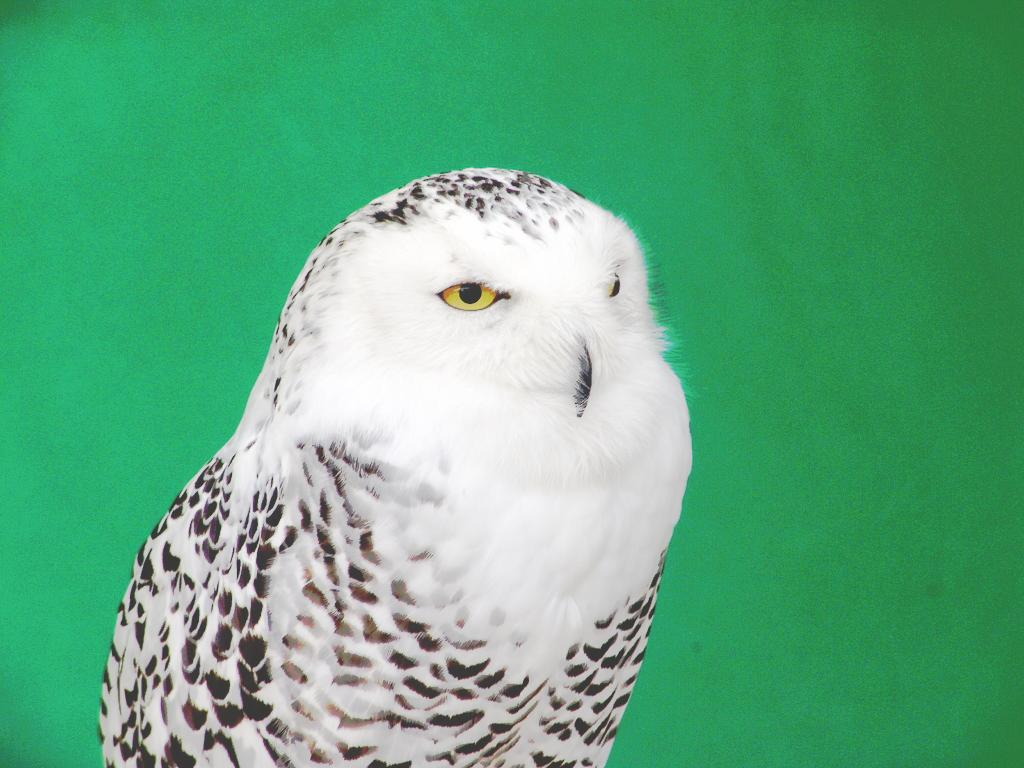Owl: (64, 170, 696, 766)
